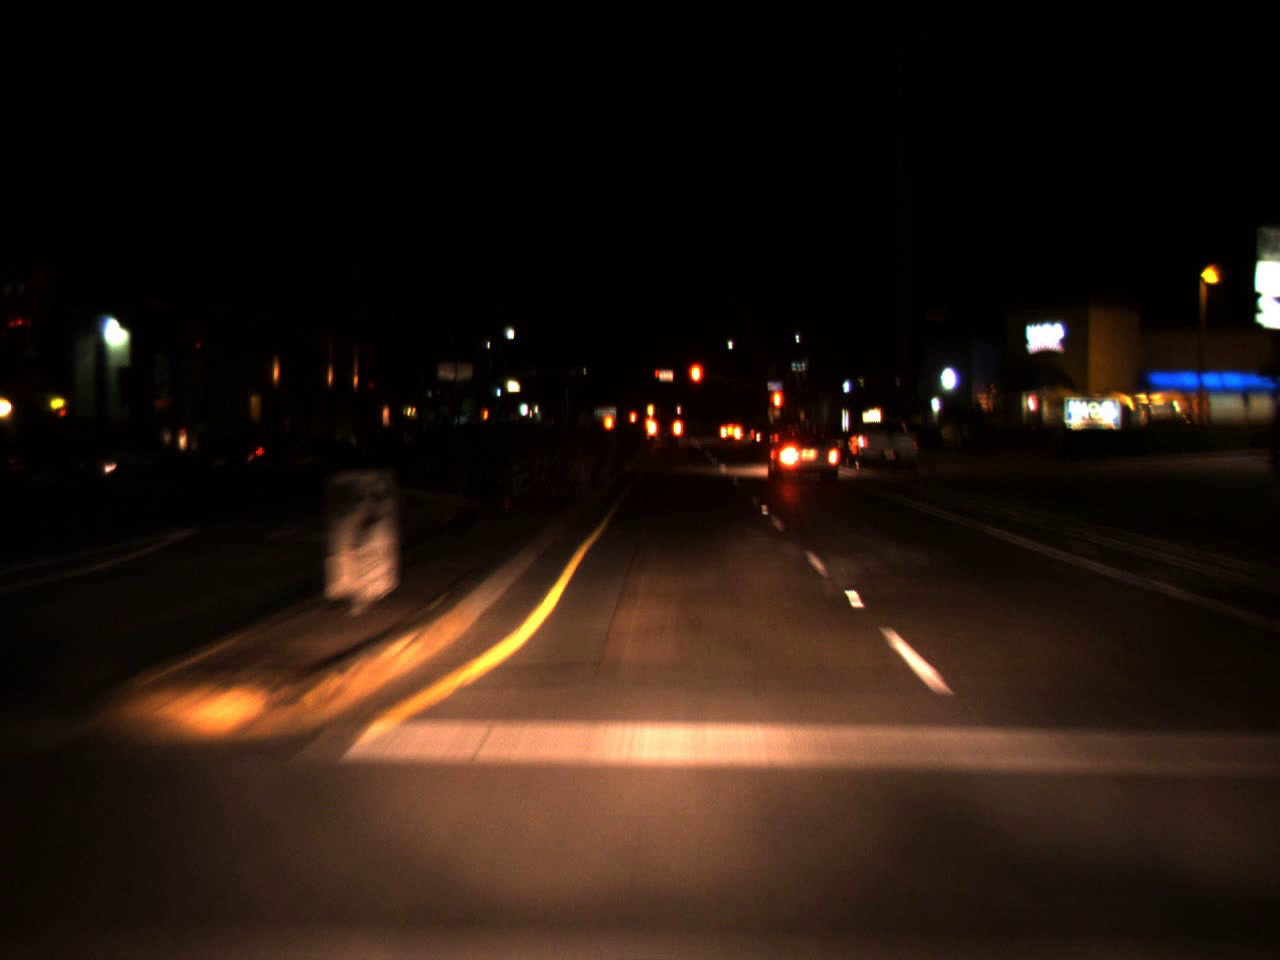stop: (686, 360, 705, 405), (769, 385, 784, 433), (653, 368, 662, 381)
